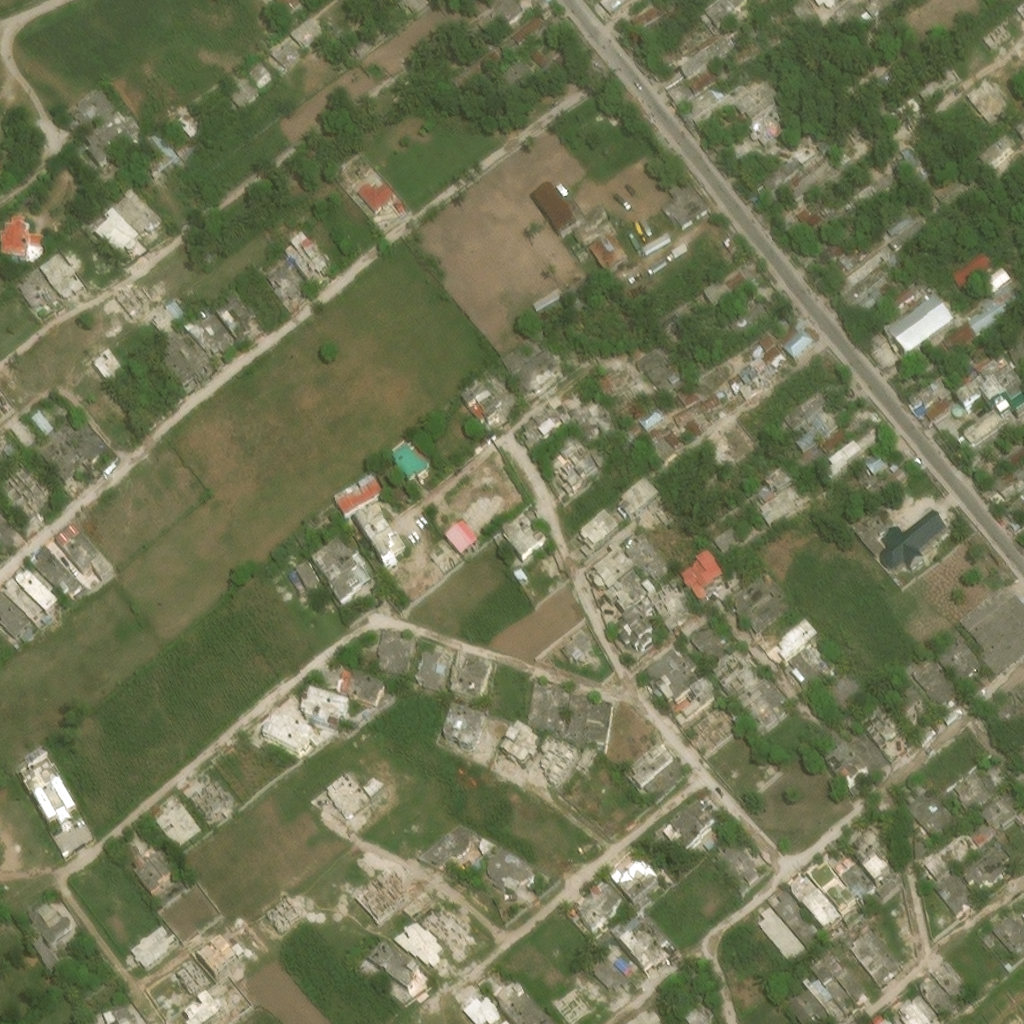minor_damage: (932, 366, 1023, 448), (720, 72, 798, 144), (96, 194, 162, 264), (653, 662, 719, 731), (968, 596, 1023, 677), (841, 917, 903, 986), (44, 522, 113, 580), (731, 570, 790, 634), (86, 117, 142, 176), (606, 859, 664, 915), (812, 953, 867, 1012), (740, 678, 794, 738), (666, 807, 724, 862), (790, 881, 849, 935), (501, 349, 563, 400), (958, 583, 1017, 634), (167, 326, 223, 379), (134, 856, 188, 910), (964, 278, 1018, 332), (490, 980, 557, 1023), (774, 890, 822, 950), (625, 532, 675, 589), (371, 946, 430, 994), (39, 437, 91, 491), (910, 657, 962, 711), (809, 865, 860, 919), (1, 468, 49, 523), (908, 790, 959, 841), (548, 448, 600, 498), (634, 345, 686, 394), (34, 544, 82, 596), (591, 544, 638, 597), (216, 295, 263, 347), (523, 402, 571, 452), (962, 849, 1016, 893), (422, 828, 478, 870), (711, 653, 761, 699), (789, 644, 838, 690), (778, 385, 827, 430), (131, 925, 180, 970), (568, 401, 619, 444), (501, 517, 548, 563), (935, 640, 983, 685), (576, 890, 626, 933), (20, 270, 63, 320), (155, 802, 201, 848), (449, 661, 496, 706), (639, 649, 687, 692), (924, 840, 972, 883), (785, 155, 833, 198), (2, 214, 44, 263), (315, 545, 360, 590), (444, 708, 488, 754), (264, 257, 306, 305), (634, 752, 678, 796), (935, 874, 977, 920), (72, 92, 118, 134), (839, 259, 886, 300), (795, 403, 838, 447), (38, 789, 80, 833), (633, 916, 674, 961), (192, 783, 236, 824), (837, 862, 878, 906), (652, 588, 692, 632), (691, 624, 736, 663), (376, 635, 415, 679), (348, 677, 395, 713), (340, 487, 387, 523), (589, 230, 629, 272), (620, 478, 661, 518), (858, 56, 900, 95), (415, 652, 453, 695), (717, 848, 760, 886), (485, 848, 526, 887), (660, 189, 705, 224), (618, 612, 658, 651), (613, 577, 650, 619), (850, 733, 889, 772), (955, 774, 994, 813), (759, 155, 801, 191), (931, 962, 969, 1001), (920, 979, 960, 1016), (22, 764, 64, 799), (166, 355, 204, 393), (202, 315, 241, 352), (0, 588, 30, 635), (592, 955, 631, 991), (548, 686, 573, 742), (526, 686, 554, 735), (565, 695, 593, 743), (984, 801, 1021, 837), (827, 674, 862, 711), (585, 703, 614, 747), (782, 320, 818, 355), (465, 390, 502, 424), (223, 72, 258, 107), (993, 916, 1023, 956), (989, 467, 1023, 502), (811, 985, 843, 1022), (889, 215, 926, 247), (862, 325, 896, 359), (376, 540, 411, 573), (977, 127, 1013, 159), (703, 27, 740, 58), (562, 631, 594, 666), (791, 995, 831, 1023), (892, 683, 924, 715), (644, 432, 676, 463), (827, 745, 860, 775), (244, 55, 274, 87), (992, 700, 1023, 730), (726, 128, 756, 159), (687, 84, 717, 114), (563, 281, 594, 310), (349, 556, 372, 595), (671, 394, 703, 422), (792, 438, 822, 467), (849, 423, 880, 451), (679, 48, 710, 76), (880, 202, 912, 229), (943, 319, 973, 347), (296, 562, 322, 594), (910, 705, 938, 734), (290, 9, 318, 38), (687, 62, 717, 89), (539, 754, 565, 785), (703, 0, 737, 23), (869, 159, 899, 185), (0, 516, 22, 551), (981, 261, 1009, 288), (862, 719, 888, 748), (273, 35, 299, 64), (879, 873, 907, 899), (865, 860, 892, 886), (165, 301, 191, 328), (79, 210, 106, 236), (735, 349, 762, 375), (781, 0, 820, 18), (30, 410, 55, 438), (292, 519, 320, 544), (21, 748, 50, 772), (613, 929, 639, 955), (854, 281, 881, 306), (857, 838, 884, 863), (772, 319, 798, 344), (1005, 333, 1023, 368), (769, 466, 794, 491), (923, 391, 949, 415), (1002, 489, 1023, 518), (795, 203, 821, 226), (738, 369, 762, 393), (953, 434, 976, 458), (991, 317, 1016, 339), (904, 270, 928, 292), (822, 422, 846, 444), (675, 379, 699, 401), (678, 37, 702, 59), (493, 0, 523, 17), (888, 282, 911, 304), (939, 168, 962, 190), (810, 240, 834, 261), (587, 445, 608, 468), (359, 520, 381, 541), (975, 832, 997, 853), (756, 337, 778, 358), (403, 464, 425, 485), (395, 452, 417, 473), (689, 17, 711, 38), (362, 967, 385, 987), (103, 1004, 127, 1023), (669, 79, 693, 98), (568, 239, 589, 260), (613, 519, 635, 539), (723, 266, 745, 286), (376, 529, 397, 549), (975, 355, 996, 375), (885, 462, 906, 482), (821, 201, 842, 221), (638, 422, 659, 442), (527, 41, 547, 62), (767, 346, 787, 367), (844, 776, 863, 797), (654, 44, 675, 63), (348, 29, 368, 48), (1005, 438, 1023, 459), (663, 425, 682, 444), (406, 83, 426, 101), (0, 444, 17, 465), (698, 791, 716, 810), (756, 481, 774, 500), (756, 323, 774, 342), (929, 180, 947, 199), (947, 623, 964, 643), (23, 437, 41, 455), (704, 281, 722, 299), (16, 427, 35, 444), (827, 853, 846, 870), (971, 336, 990, 353), (871, 715, 888, 734), (743, 334, 762, 351), (413, 450, 430, 469), (915, 839, 931, 859), (930, 373, 948, 390), (514, 407, 532, 424), (359, 480, 379, 495), (876, 90, 893, 107), (684, 414, 701, 431), (623, 916, 641, 932), (720, 229, 736, 247), (337, 683, 353, 700), (413, 578, 430, 594), (468, 56, 485, 72), (844, 79, 860, 96), (634, 1013, 660, 1023), (66, 431, 82, 447), (858, 766, 874, 782), (641, 0, 657, 16), (836, 444, 851, 461), (876, 707, 891, 723), (895, 150, 910, 166), (149, 131, 165, 146), (863, 0, 887, 10), (321, 22, 337, 37), (290, 571, 304, 588), (117, 1012, 138, 1023), (883, 247, 898, 262), (774, 307, 789, 322), (536, 60, 551, 75), (902, 1007, 916, 1023), (791, 311, 805, 327), (985, 781, 999, 797), (1012, 112, 1023, 132), (826, 840, 841, 854), (909, 289, 924, 303), (285, 0, 303, 11), (73, 580, 87, 594), (372, 510, 386, 524), (556, 184, 570, 198), (904, 146, 919, 159), (793, 869, 807, 882), (390, 568, 404, 581), (737, 882, 750, 896), (837, 460, 851, 473), (919, 391, 933, 404), (897, 136, 910, 150), (744, 249, 757, 263), (176, 114, 190, 127), (745, 0, 764, 9), (812, 631, 825, 644), (857, 2, 870, 15), (767, 890, 780, 902), (831, 926, 844, 938), (725, 367, 737, 380), (784, 300, 796, 312), (342, 673, 354, 684), (942, 384, 954, 395), (842, 267, 854, 278), (484, 44, 495, 56), (838, 250, 849, 261), (761, 0, 772, 11), (400, 76, 411, 87), (610, 381, 622, 391), (371, 575, 380, 587), (993, 839, 1003, 849), (649, 67, 660, 76), (844, 0, 857, 7), (866, 250, 876, 259), (917, 143, 926, 152), (598, 883, 607, 891), (996, 339, 1005, 347), (203, 308, 211, 317), (901, 1017, 910, 1023), (924, 971, 931, 977), (639, 911, 646, 917), (0, 166, 3, 179), (599, 3, 605, 9)
no_damage: (888, 293, 957, 356), (758, 906, 807, 965), (882, 523, 926, 570), (537, 189, 579, 238), (32, 907, 73, 948), (947, 246, 989, 283), (508, 9, 543, 40), (468, 5, 501, 37), (32, 941, 61, 974)
unclassified: (944, 196, 966, 217), (993, 230, 1015, 244), (646, 9, 662, 26), (847, 116, 862, 130), (842, 211, 854, 222), (774, 33, 785, 43), (787, 25, 796, 34)
